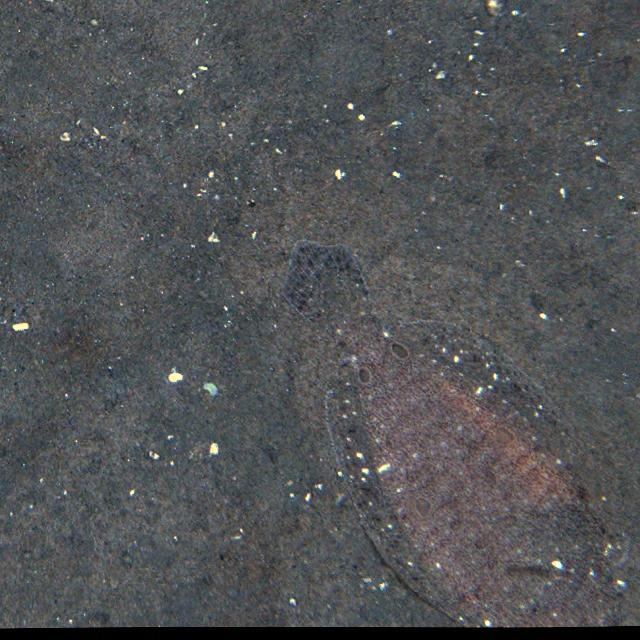flatfish: (284, 235, 626, 628)
